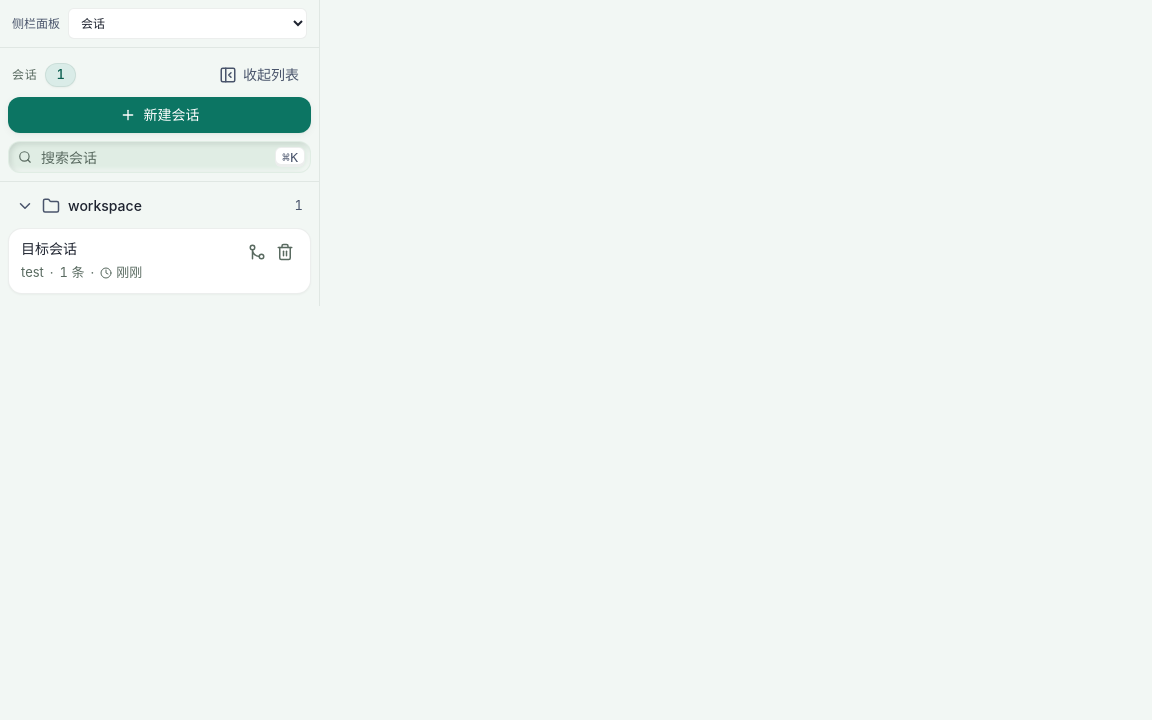
Test case: 点取消关闭气泡且不删除会话
Expected: the text "目标会话" is shown, left=21, top=240, right=77, bottom=257
What coordinates should you click on to do the following:
click the button named "删除会话"
I would click on:
 (285, 252)
Its box is left=272, top=239, right=298, bottom=265.
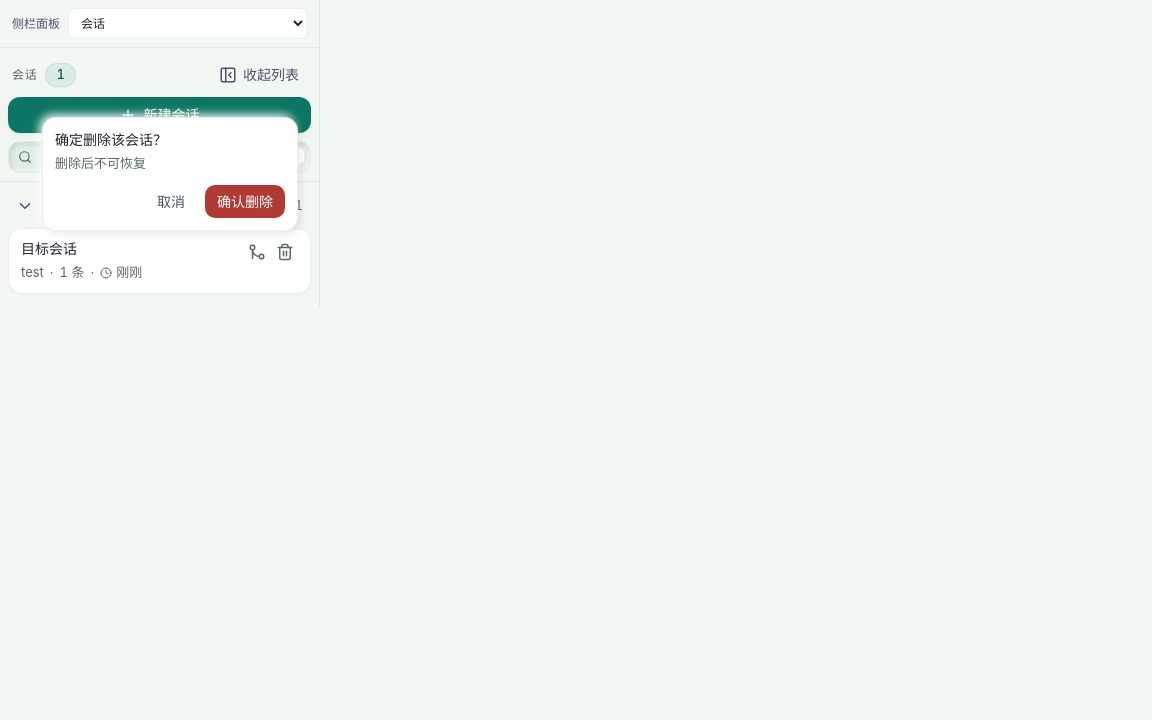
Expected: the text "确定删除该会话？" is shown, left=55, top=130, right=167, bottom=148
What coordinates should you click on to do the following:
click the button "取消"
I would click on:
 (171, 202)
Its box is left=145, top=185, right=197, bottom=218.
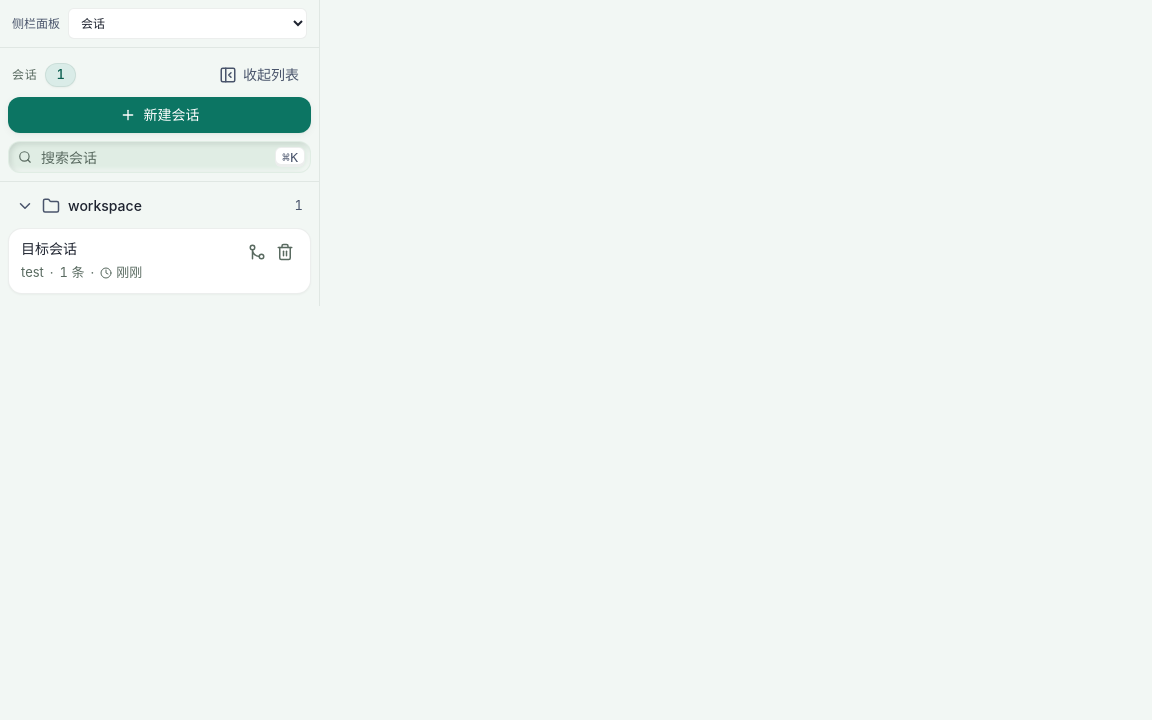
Expected: the text "目标会话" is shown, left=21, top=240, right=77, bottom=257
Expected: the text "确定删除该会话？" is gone
